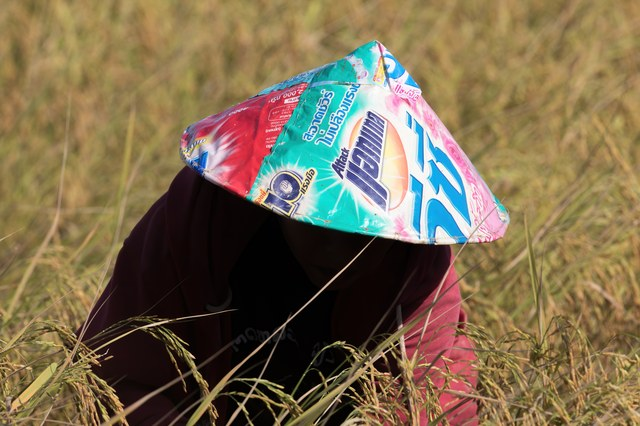Ariel Matic Top Load: (32, 21, 608, 405)
